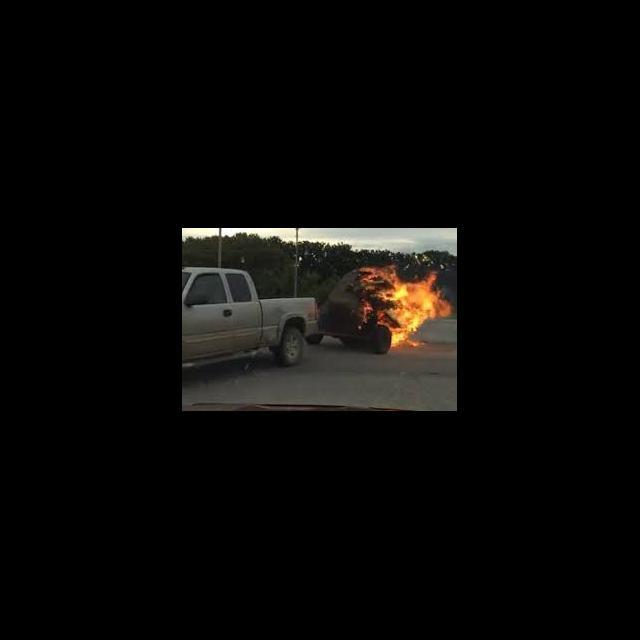Fire: (352, 258, 454, 352)
